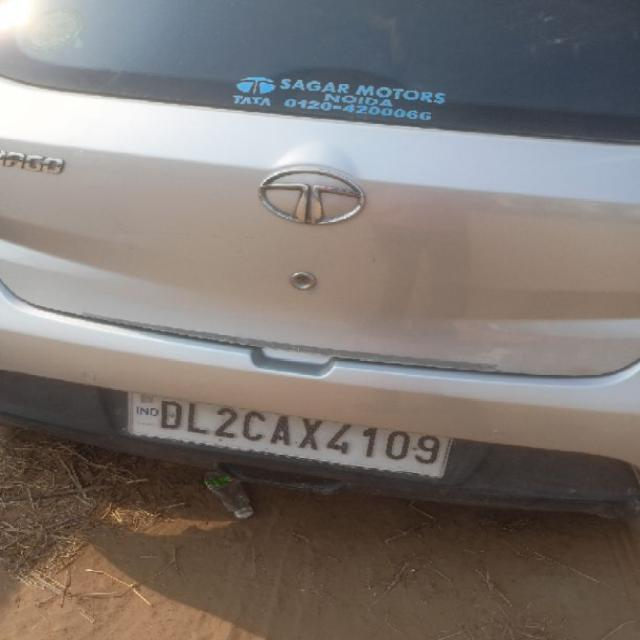license_plate: (123, 390, 480, 485)
